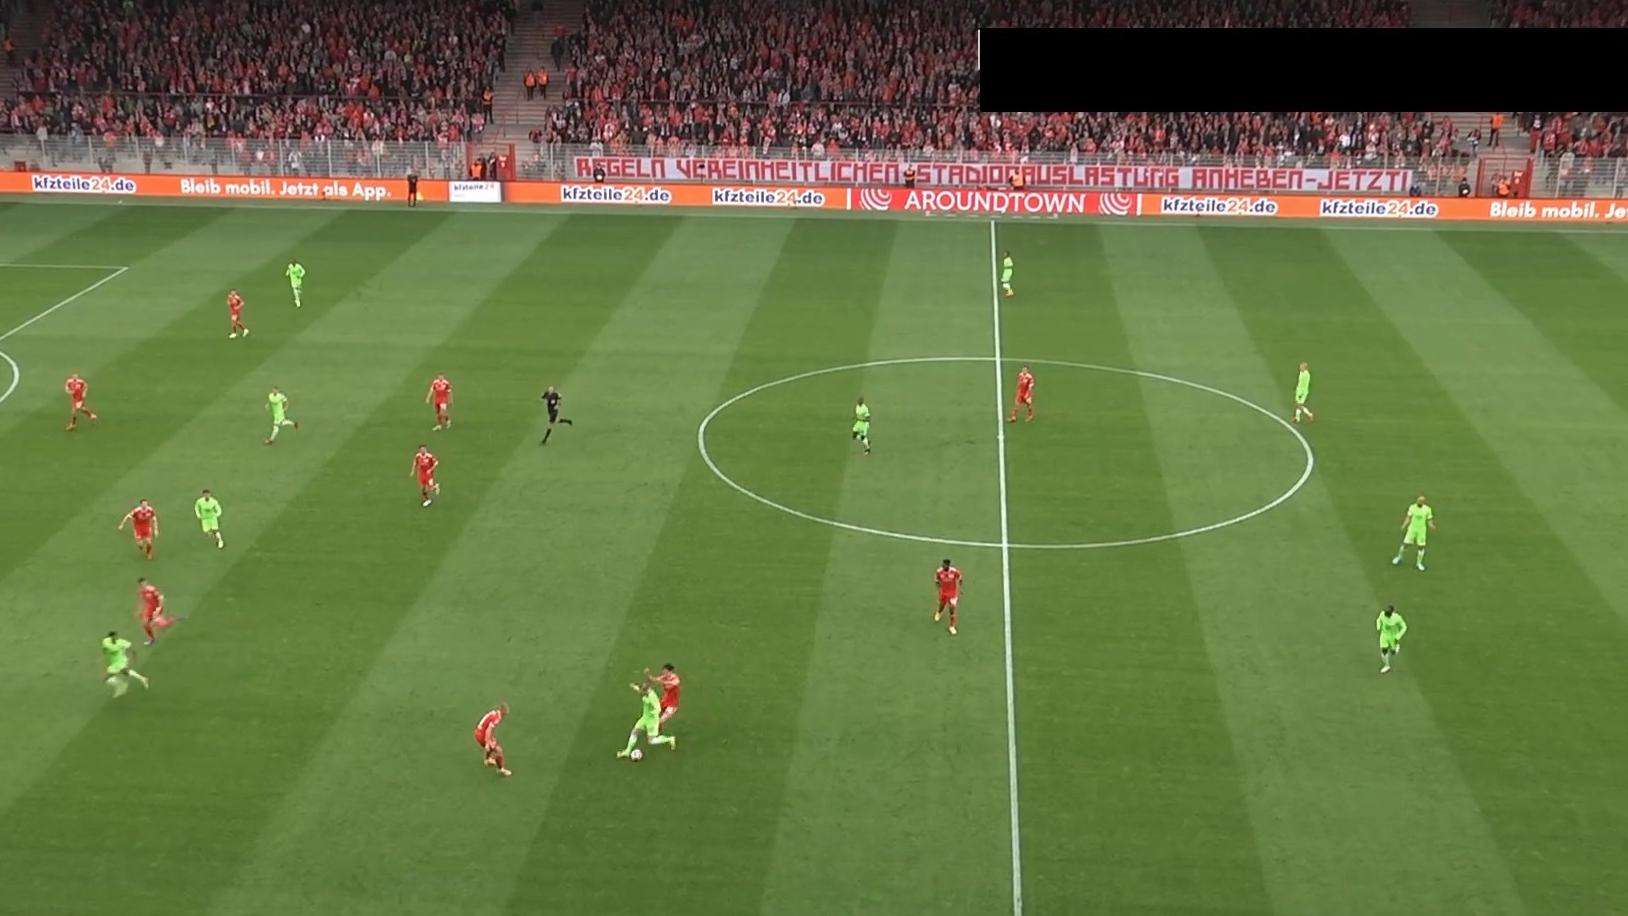ball: (629, 747, 644, 762)
